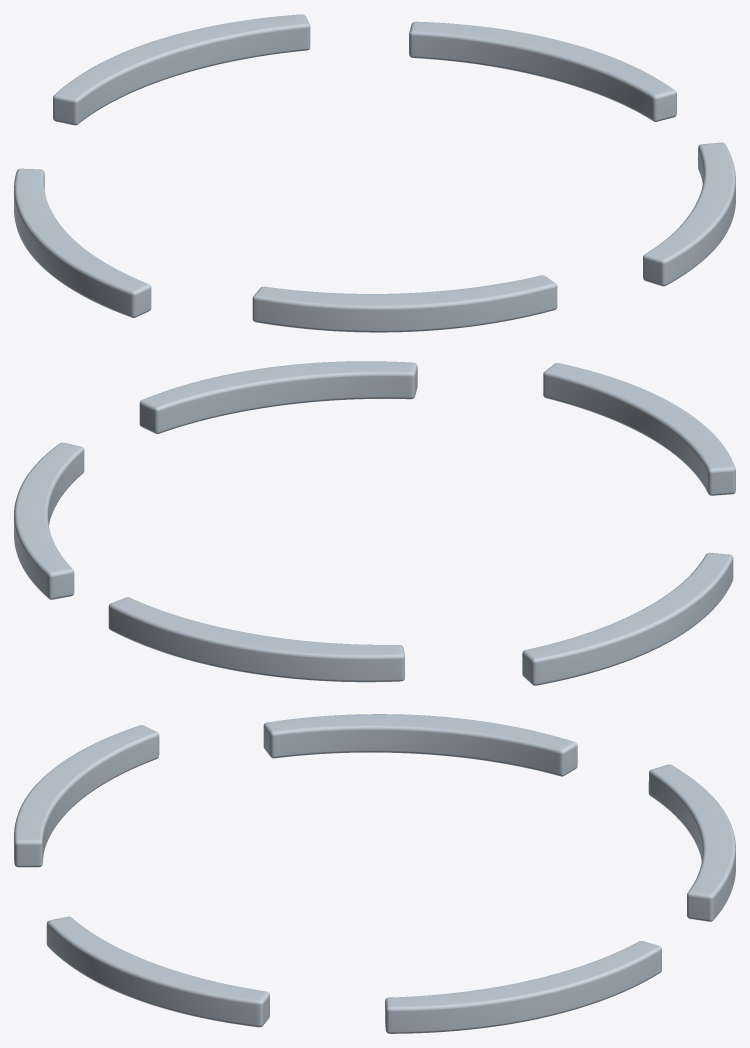
Rendered from ev_core_r11_bezel.glb.
3 renders of one model, top to bottom at view 1: azimuth 30°, elevation 25°; view 2: azimuth 150°, elevation 25°; view 3: azimuth 270°, elevation 25°, orthographic.
Parts seen in each view (by area): view 1: Bezel_3, Bezel_0, Bezel_1, Bezel_2, Bezel_4; view 2: Bezel_1, Bezel_4, Bezel_2, Bezel_3, Bezel_0; view 3: Bezel_2, Bezel_0, Bezel_4, Bezel_3, Bezel_1.
Part boxes in pixels (x1,y1,x2,y2): Bezel_3: (252, 275, 557, 332); Bezel_0: (409, 21, 676, 121); Bezel_1: (53, 14, 310, 125); Bezel_2: (14, 168, 151, 317); Bezel_4: (643, 142, 735, 286); Bezel_1: (108, 597, 404, 682); Bezel_4: (139, 361, 417, 433); Bezel_2: (522, 552, 733, 685); Bezel_3: (543, 363, 735, 495); Bezel_0: (14, 442, 84, 599); Bezel_2: (263, 714, 577, 776); Bezel_0: (385, 941, 661, 1033); Bezel_4: (46, 916, 269, 1027); Bezel_3: (14, 725, 159, 867); Bezel_1: (648, 764, 735, 921).
Bounding box in the file's own units: 4.86 × 0.4 × 4.87.
